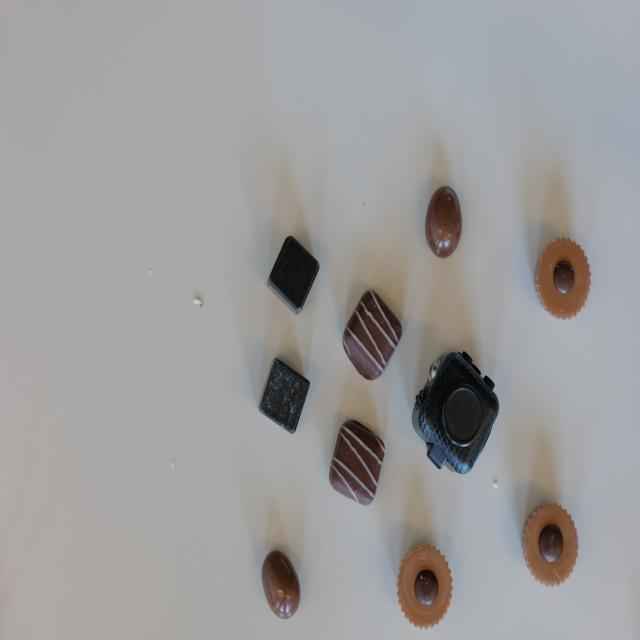Jelly_Milk: (261, 549, 301, 618), (425, 186, 462, 258)
Noblesse: (396, 542, 453, 630), (523, 502, 579, 589), (536, 236, 592, 318)
Stracciatella: (343, 287, 403, 381), (329, 419, 386, 506)
